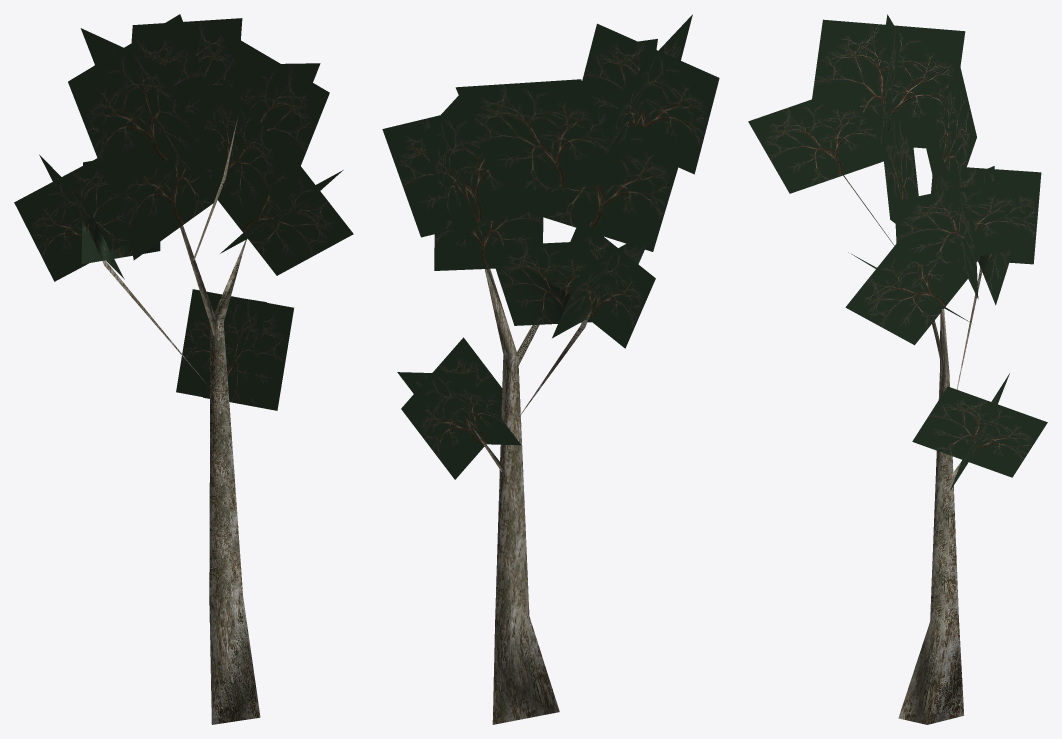
The model's file is decd_hollytreebranches_a2_l2.fbx.
The picture shows the model from 3 angles, left to right: view 1: azimuth 30°, elevation 25°; view 2: azimuth 150°, elevation 25°; view 3: azimuth 270°, elevation 25°; orthographic projection. The views are drawn at different scales.
Parts seen in each view (by area): view 1: mesh_node; view 2: mesh_node; view 3: mesh_node.
Boxes of the visible parts, x1,y1,x2,y2 form: mesh_node: (14, 14, 353, 724); mesh_node: (382, 14, 719, 724); mesh_node: (748, 14, 1047, 724).
Size of the model in its own units: 7.8 by 17.84 by 7.48.
Materials: 2 (2 with a texture image).
